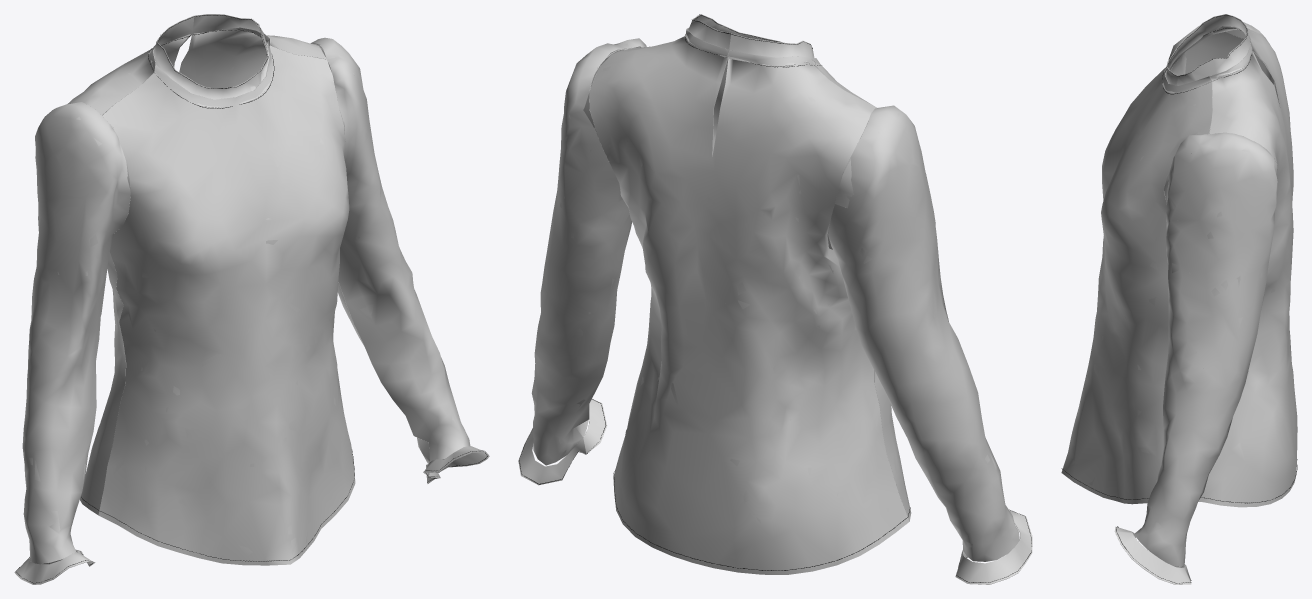
The model's file is rosieblouselowpoly.fbx.
The picture shows the model from 3 angles, left to right: view 1: azimuth 30°, elevation 25°; view 2: azimuth 150°, elevation 25°; view 3: azimuth 270°, elevation 25°; orthographic projection. The views are drawn at different scales.
Parts seen in each view (by area): view 1: ROSIE BLOUSE修改样_袖子; view 2: ROSIE BLOUSE修改样_袖子; view 3: ROSIE BLOUSE修改样_袖子.
Part boxes in pixels (left/top/right/bottom): ROSIE BLOUSE修改样_袖子: left=14, top=14, right=489, bottom=584; ROSIE BLOUSE修改样_袖子: left=518, top=14, right=1032, bottom=584; ROSIE BLOUSE修改样_袖子: left=1061, top=14, right=1297, bottom=584.
Size of the model in its own units: 64.35 by 65.78 by 30.83.
Materials: 39 (39 with a texture image).
